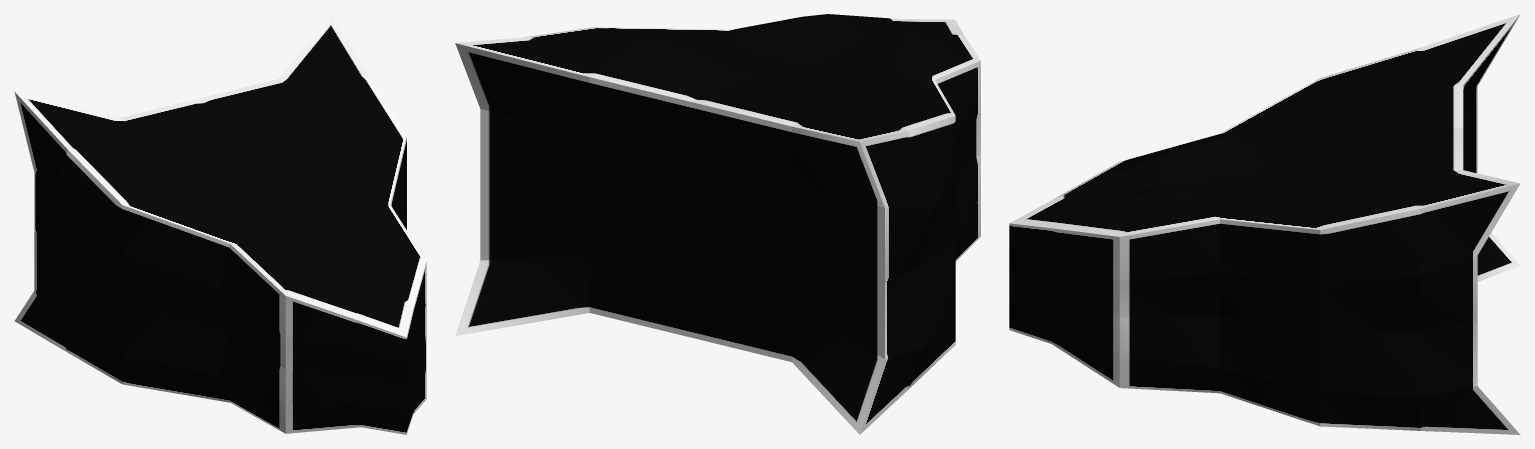
File: EnemyFast.fbx
3 renders of one model, left to right at view 1: azimuth 30°, elevation 25°; view 2: azimuth 150°, elevation 25°; view 3: azimuth 270°, elevation 25°, orthographic. The views are drawn at different scales.
Parts seen in each view (by area): view 1: EnemyFast; view 2: EnemyFast; view 3: EnemyFast.
Part boxes in pixels (x1=…): EnemyFast: x1=14, y1=14, x2=426, y2=434; EnemyFast: x1=455, y1=14, x2=980, y2=434; EnemyFast: x1=1009, y1=14, x2=1520, y2=434.
Bounding box in the file's own units: 1.05 × 0.6928 × 1.28.
